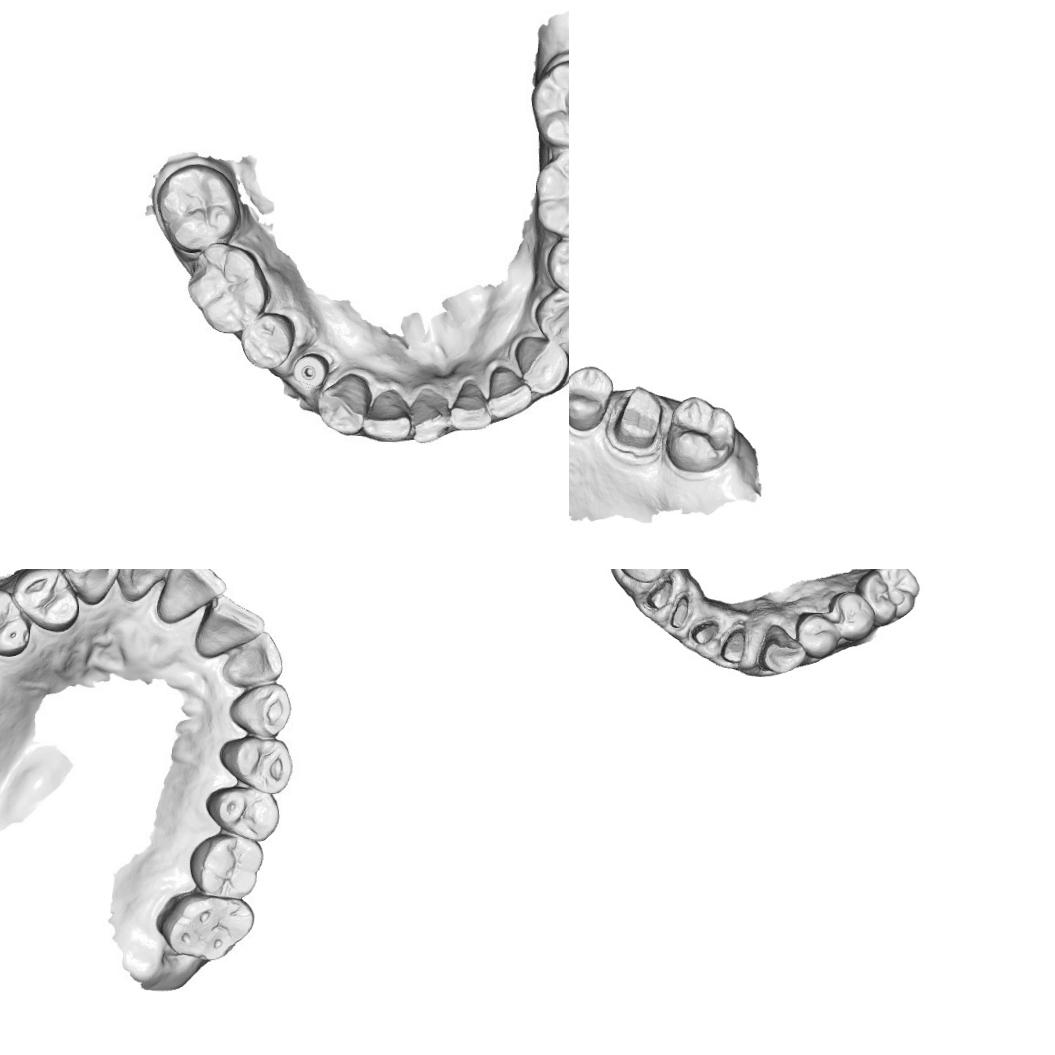canine: (314, 369, 372, 438), (228, 679, 294, 738), (514, 335, 569, 397), (756, 622, 807, 676), (62, 569, 119, 605), (617, 569, 671, 583)
crown: (609, 383, 666, 454), (718, 623, 748, 664), (643, 575, 674, 611), (687, 618, 720, 646), (667, 593, 692, 628)
implant: (292, 351, 327, 388)
incisor: (190, 594, 267, 659), (222, 629, 285, 691), (155, 569, 227, 623), (363, 390, 414, 446), (488, 364, 534, 422), (408, 391, 454, 445), (449, 383, 494, 433), (119, 569, 175, 605)
molar: (152, 890, 256, 963), (156, 165, 241, 250), (189, 247, 269, 337), (664, 394, 740, 476), (185, 830, 266, 902), (853, 569, 921, 628), (531, 59, 569, 151), (531, 151, 569, 239)
premolar: (214, 732, 294, 794), (204, 782, 280, 843), (11, 569, 80, 633), (569, 363, 616, 434), (238, 312, 294, 371), (0, 586, 36, 662), (826, 590, 876, 643), (793, 610, 841, 660), (532, 288, 569, 349), (542, 237, 569, 296)
